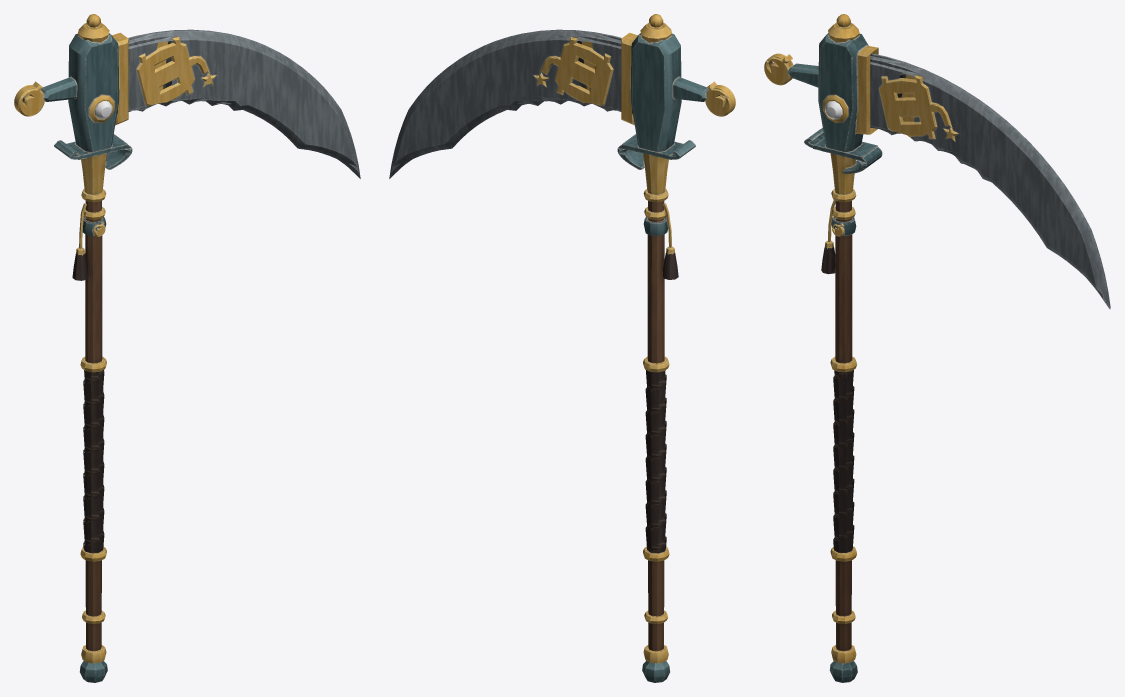
File: Fusereaper.fbx
3 renders of one model, left to right at view 1: azimuth 30°, elevation 25°; view 2: azimuth 150°, elevation 25°; view 3: azimuth 330°, elevation 25°, orthographic.
Parts seen in each view (by area): view 1: Fusereaper_Body; view 2: Fusereaper_Body; view 3: Fusereaper_Body.
Part boxes in pixels (<box>): Fusereaper_Body: <box>14,14,360,682</box>; Fusereaper_Body: <box>389,14,735,682</box>; Fusereaper_Body: <box>764,14,1110,682</box>.
Size of the model in its own units: 3.41 by 6.31 by 0.39.
